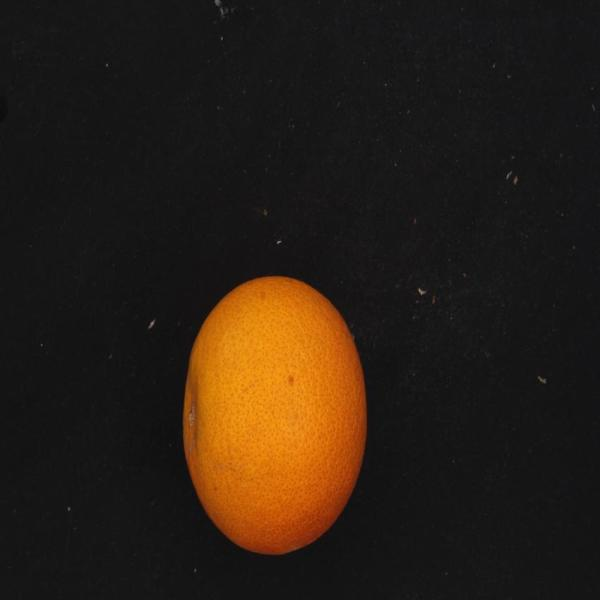Sana: (161, 263, 379, 562)
